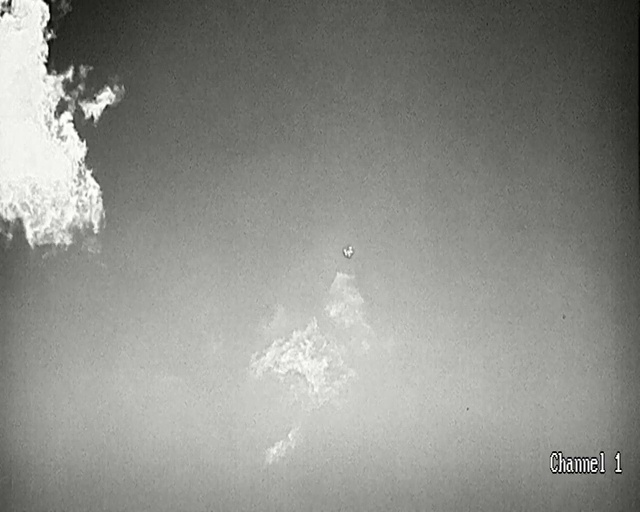uav: (343, 246, 352, 256)
